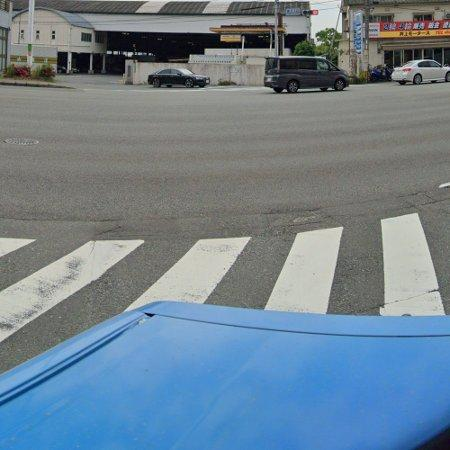crosswalks: (0, 211, 446, 351)
